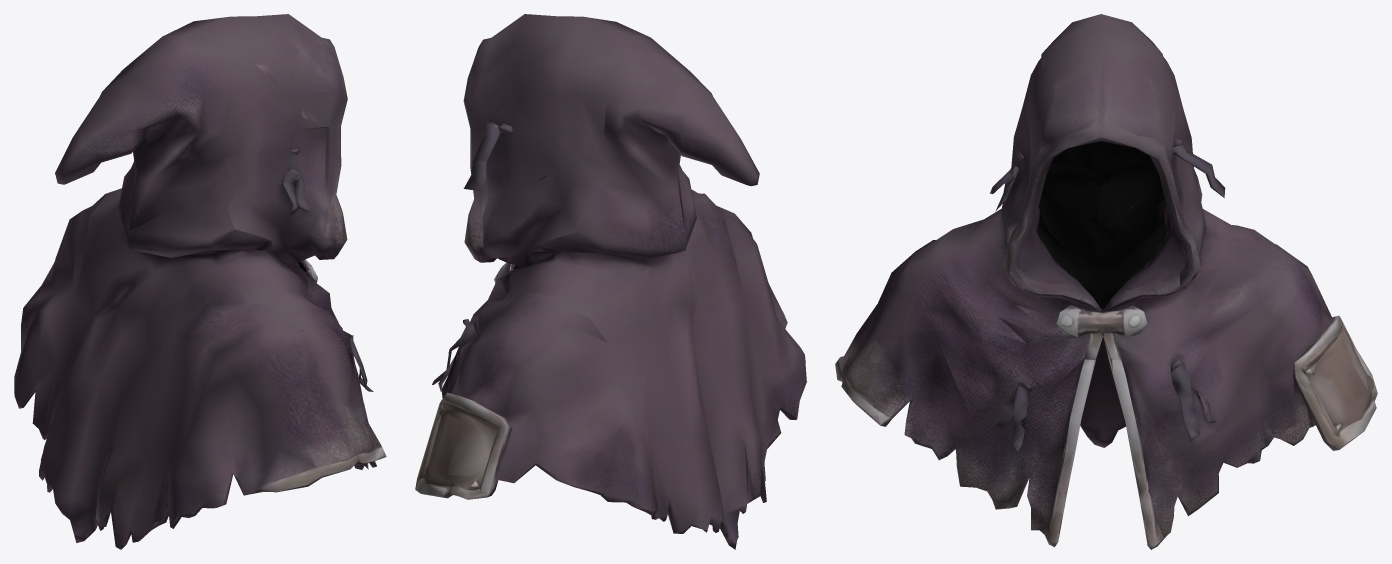
Rendered from curse_hood.glb.
3 views of the same model, side by side, from view 1: azimuth 30°, elevation 25°; view 2: azimuth 150°, elevation 25°; view 3: azimuth 270°, elevation 25° (orthographic).
Visible parts, largest first — view 1: model; view 2: model; view 3: model.
Boxes of the visible parts, x1=… form: model: x1=14, y1=14, x2=386, y2=549; model: x1=415, y1=14, x2=806, y2=549; model: x1=835, y1=14, x2=1377, y2=549.
Bounding box in the file's own units: 0.6068 × 1 × 0.9976.
1 material, 1 textured.
